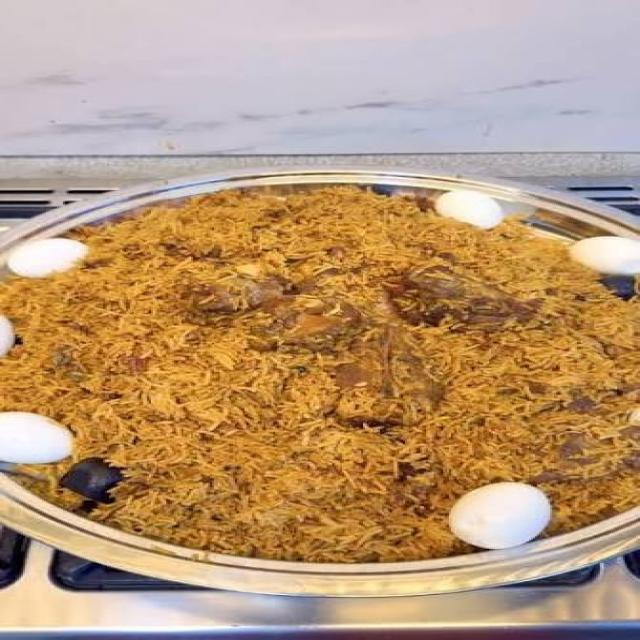Machboos: (5, 196, 640, 563)
